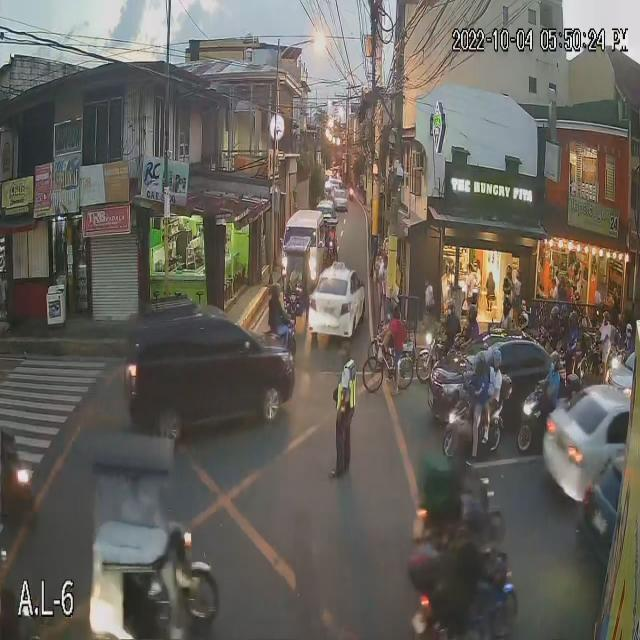helmet: (455, 500, 492, 535), (446, 425, 474, 465), (543, 345, 563, 372), (595, 304, 616, 327), (464, 300, 482, 325), (498, 291, 515, 316), (616, 322, 637, 341), (487, 349, 504, 372), (544, 302, 560, 325), (472, 351, 486, 376), (270, 280, 282, 303), (559, 300, 574, 317), (444, 298, 456, 318), (570, 311, 585, 325), (518, 310, 529, 328)
motorcycle: (394, 486, 518, 560), (406, 561, 516, 640), (438, 396, 509, 470), (510, 387, 572, 460), (415, 329, 448, 386), (266, 319, 296, 357)
rider: (445, 497, 490, 585), (445, 422, 478, 501), (484, 348, 507, 410), (542, 351, 565, 405), (268, 275, 288, 336), (470, 349, 488, 415), (438, 295, 459, 350), (595, 304, 616, 357), (462, 298, 483, 348), (563, 308, 584, 347), (496, 292, 513, 339), (619, 319, 638, 357), (556, 301, 572, 341), (516, 307, 532, 335), (549, 301, 561, 337)
